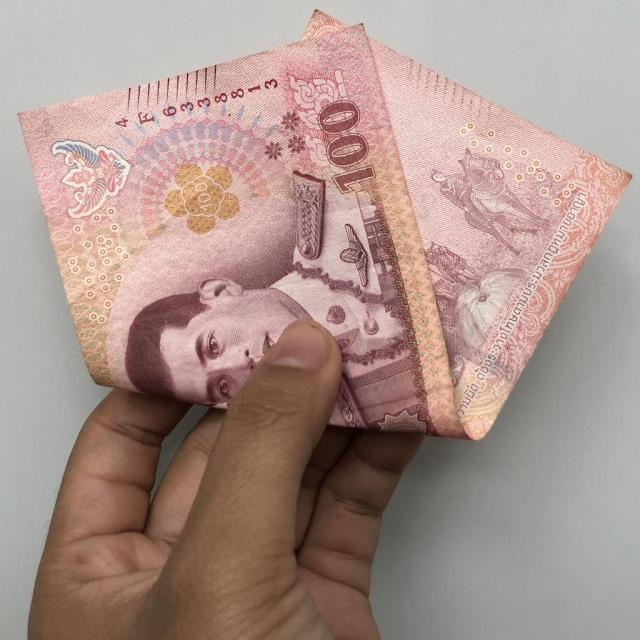THAI100: (21, 11, 630, 439)
